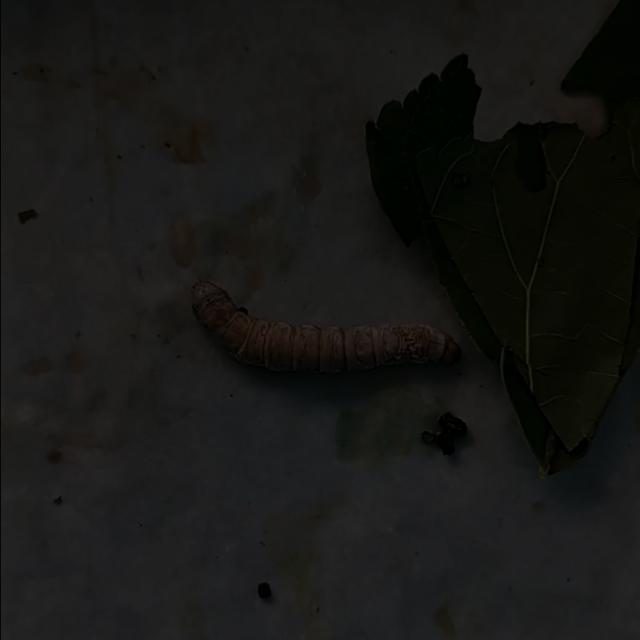Grasserie: (185, 265, 476, 405)
